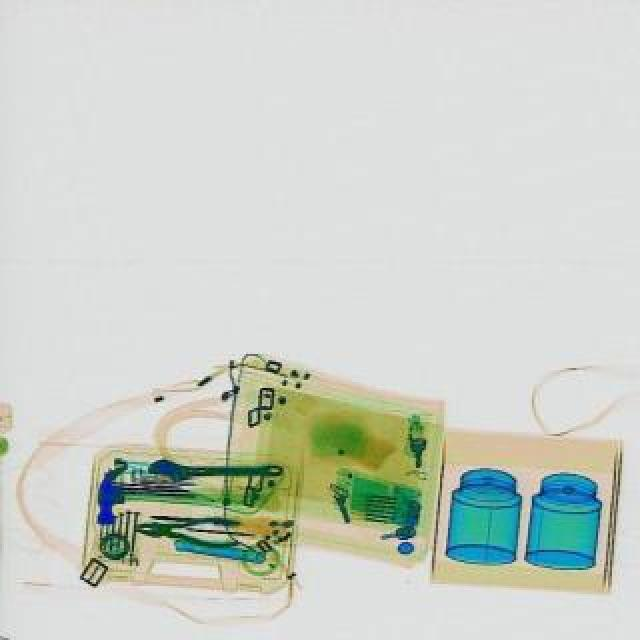scissors: (148, 458, 282, 482)
wrench: (132, 510, 238, 550)
